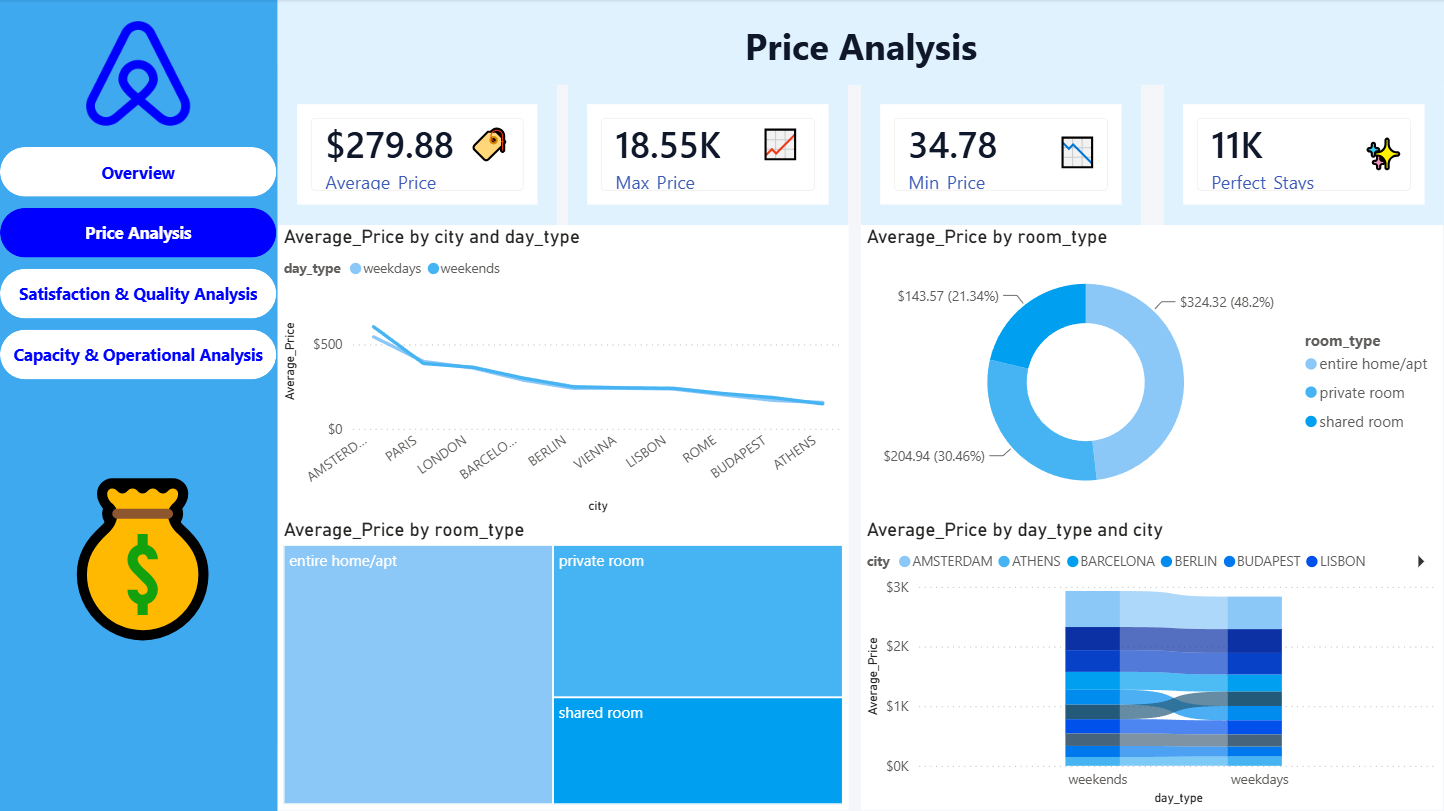

The dashboard page shown, as its layout file describes it:
{"tool":"powerbi","page":{"name":"Price Analysis","canvas":[1280,720],"ordinal":1},"visuals":[{"type":"shape","box":[0,0,246.1,719.8],"z":0},{"type":"image","box":[74.8,19.4,96.2,93.3],"z":1000},{"type":"shape","box":[246.1,0,1033.9,75.9],"z":3000},{"type":"textbox","box":[246.1,19.5,1033.9,56.4],"z":4000},{"type":"cardVisual","fields":{"Data":["gold dim_hosts.Max_Price"]},"box":[503.8,75.9,248,123.5],"z":5000},{"type":"cardVisual","fields":{"Data":["gold dim_hosts.Average_Price"]},"box":[246.1,75.9,247.1,123.5],"z":6000},{"type":"cardVisual","fields":{"Data":["gold dim_hosts.Min_Price"]},"box":[763.5,75.9,248,123.5],"z":7000},{"type":"cardVisual","fields":{"Data":["gold dim_hosts.Avg_Cleaning_Fee"]},"box":[1032,75.9,248,123.5],"z":8000},{"type":"donutChart","fields":{"Category":["gold dim_properties.room_type"],"Y":["gold dim_hosts.Average_Price"]},"box":[763.5,200.4,516.5,259.7],"z":9000},{"type":"lineChart","fields":{"Category":["gold dim_locations.city"],"Series":["gold fact_listings.day_type"],"Y":["gold dim_hosts.Average_Price"]},"box":[246.1,200.4,505.8,259.7],"z":10000},{"type":"ribbonChart","fields":{"Category":["gold fact_listings.day_type"],"Y":["gold dim_hosts.Average_Price"],"Series":["gold dim_locations.city"]},"box":[763.5,460.1,516.5,258.7],"z":11000},{"type":"treemap","fields":{"Group":["gold dim_properties.room_type"],"Values":["gold dim_hosts.Average_Price"]},"box":[246.1,460.1,505.8,258.7],"z":12000},{"type":"textbox","box":[410.5,105,48.6,51.6],"z":13000},{"type":"textbox","box":[669.2,105,49.6,51.6],"z":14000},{"type":"textbox","box":[932.8,111.9,50.6,51.6],"z":15000},{"type":"textbox","box":[1203.2,112.8,49.6,51.6],"z":16000},{"type":"textbox","box":[46.7,398.8,153.7,190.6],"z":17000},{"type":"pageNavigator","box":[0,131.2,245.9,206],"z":17001}]}

Visuals, with their boxes on the page's 1280x720 design canvas (x1, y1, x2, y2). These are canvas units, not pixel positions in the 1444x811 screenshot, which may show the page scaled, cropped or inside an application window:
shape: locate(0, 0, 246, 720)
image: locate(75, 19, 171, 113)
shape: locate(246, 0, 1280, 76)
textbox: locate(246, 20, 1280, 76)
cardVisual - gold dim_hosts.Max_Price: locate(504, 76, 752, 199)
cardVisual - gold dim_hosts.Average_Price: locate(246, 76, 493, 199)
cardVisual - gold dim_hosts.Min_Price: locate(764, 76, 1012, 199)
cardVisual - gold dim_hosts.Avg_Cleaning_Fee: locate(1032, 76, 1280, 199)
donutChart - gold dim_properties.room_type x gold dim_hosts.Average_Price: locate(764, 200, 1280, 460)
lineChart - gold dim_locations.city x gold fact_listings.day_type: locate(246, 200, 752, 460)
ribbonChart - gold fact_listings.day_type x gold dim_hosts.Average_Price: locate(764, 460, 1280, 719)
treemap - gold dim_properties.room_type x gold dim_hosts.Average_Price: locate(246, 460, 752, 719)
textbox: locate(410, 105, 459, 157)
textbox: locate(669, 105, 719, 157)
textbox: locate(933, 112, 983, 164)
textbox: locate(1203, 113, 1253, 164)
textbox: locate(47, 399, 200, 589)
pageNavigator: locate(0, 131, 246, 337)
